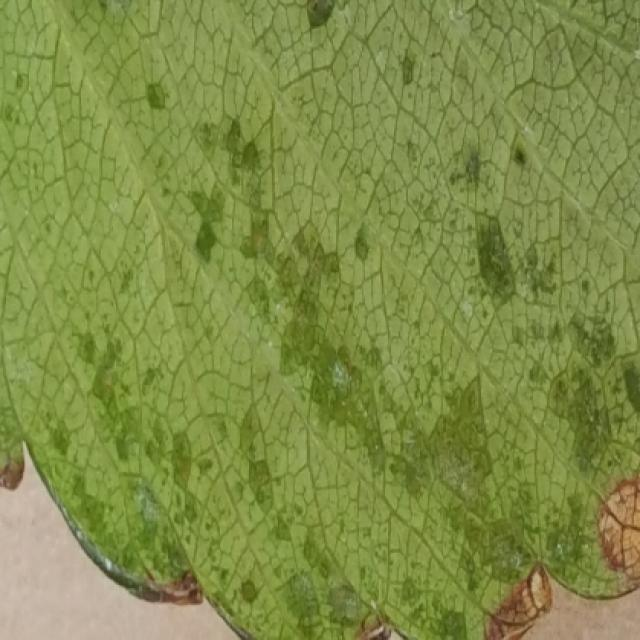Angular Leafspot: (0, 0, 638, 638)
